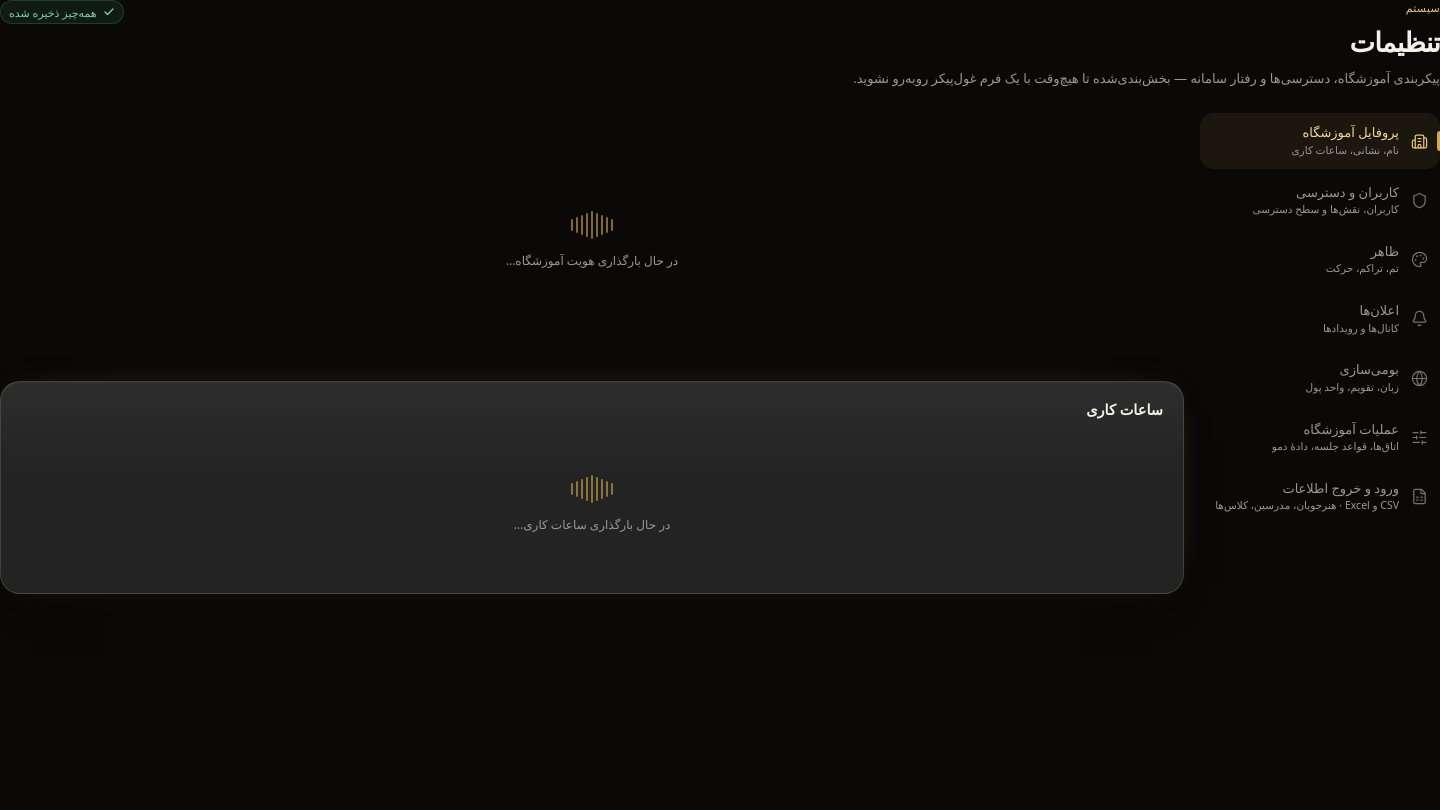
Test case: theme presets › offers every preset the stylesheet implements
Click the button "ظاهر تم، تراکم، حرکت" at (1320, 260), box [1200,232,1439,287]
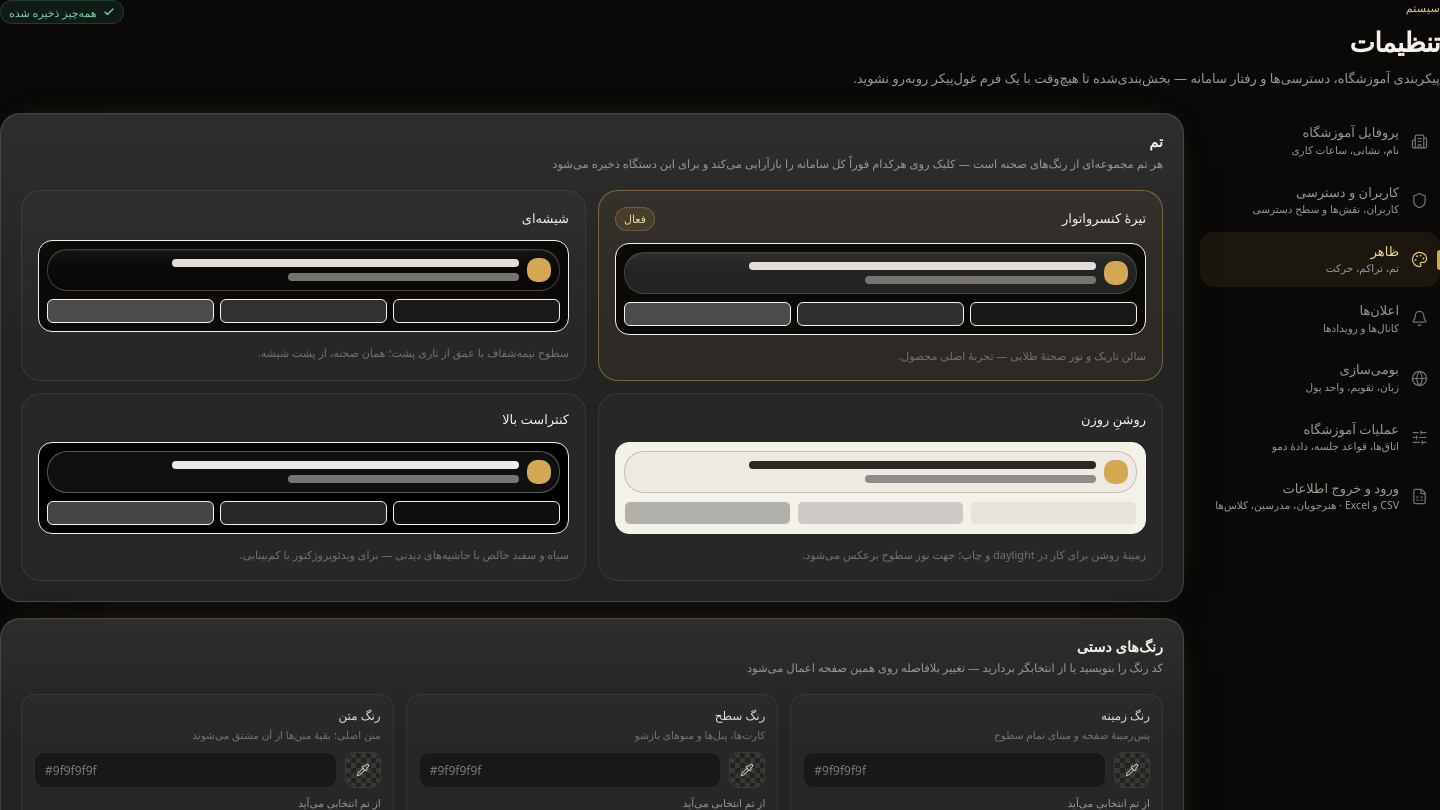
Expected: the button "تیرهٔ کنسرواتوار" is shown, [598,190,1163,382]
Expected: the button "شیشه‌ای" is shown, [21,190,586,382]
Expected: the button "روشنِ روزن" is shown, [598,393,1163,581]
